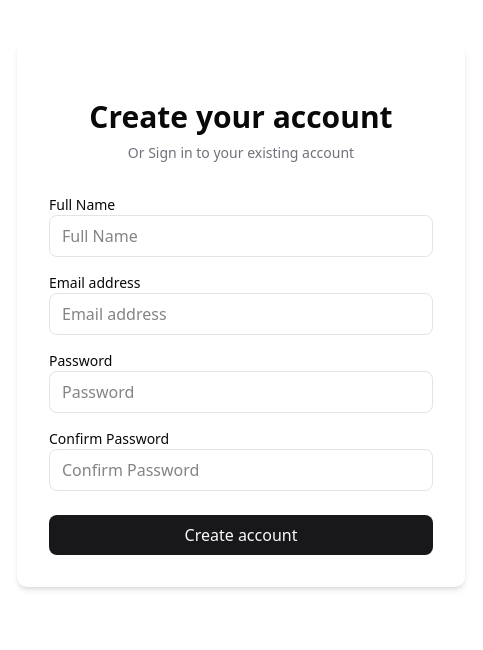
Test: Signup Component › validates passwords match
// Fill form with mismatched passwords
Type "Test User" into the field labelled "Full Name" at (241, 236), box [49,215,433,257]
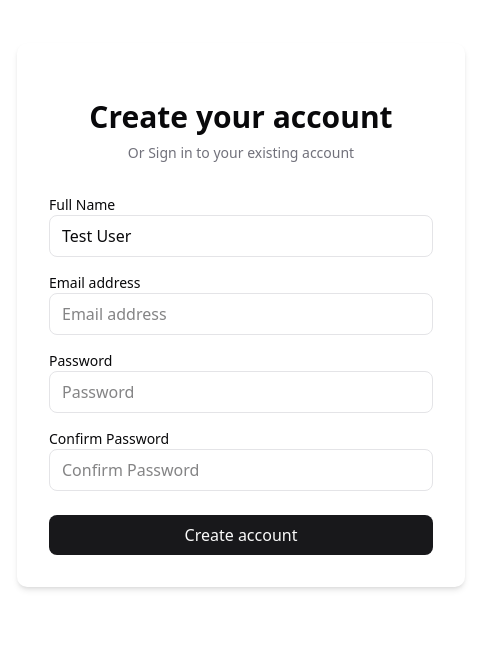
Type "test@example.com" into the field with placeholder "Email address" at (241, 314), box [49,293,433,335]
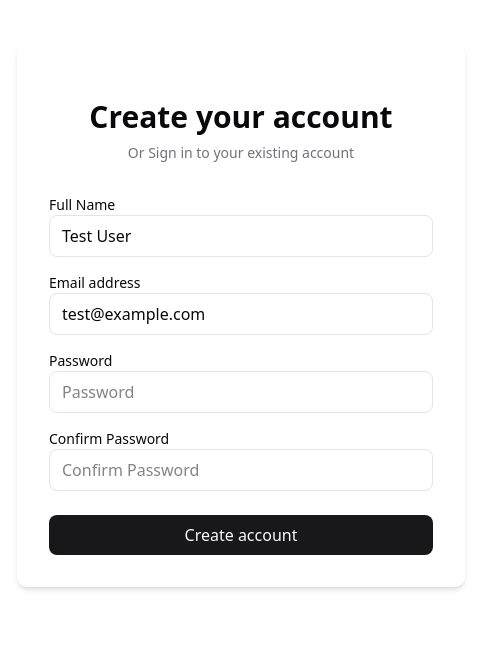
Type "password123" into the password field labelled "Password" at (241, 392), box [49,371,433,413]
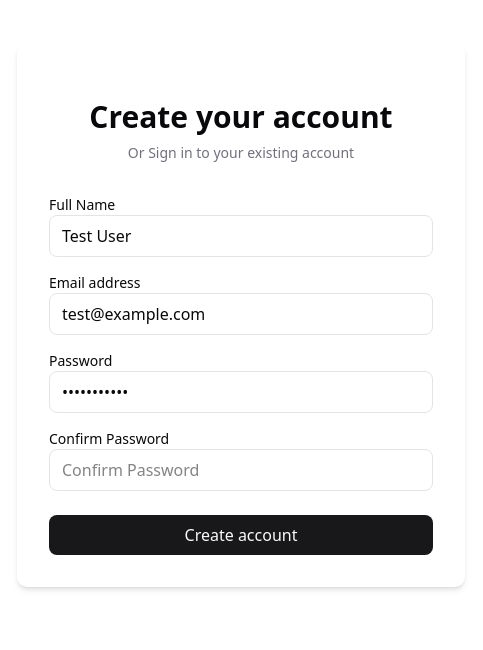
Type "different" into the password field labelled "Confirm Password" at (241, 470), box [49,449,433,491]
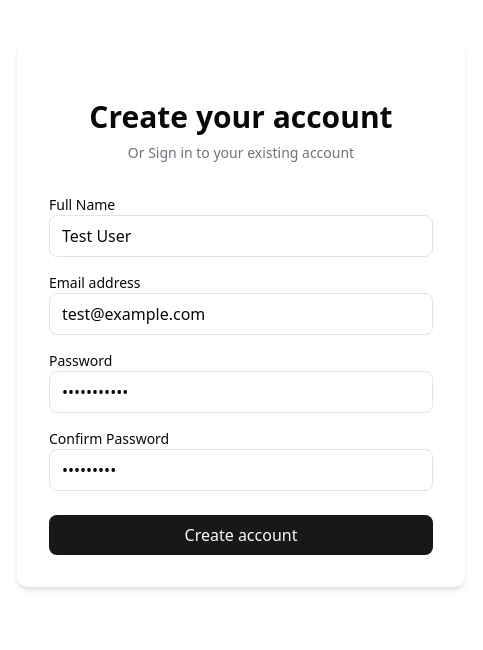
// Submit form
Click the button "Create account" at (241, 535), box [49,515,433,555]
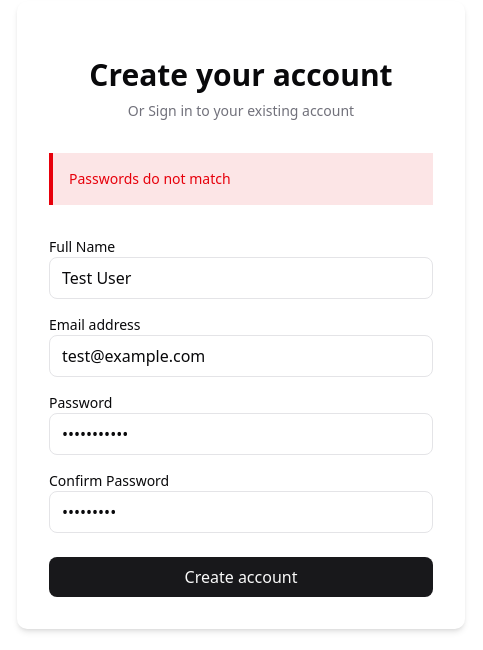
Expected: the text "Passwords do not match" is shown, [69,169,231,188]
